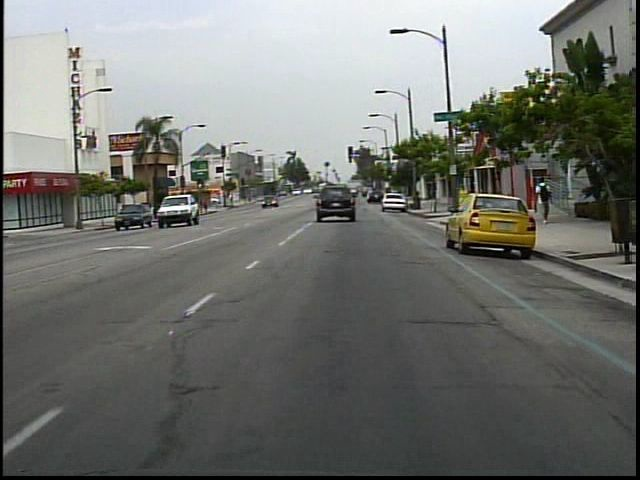person: (532, 171, 556, 226)
